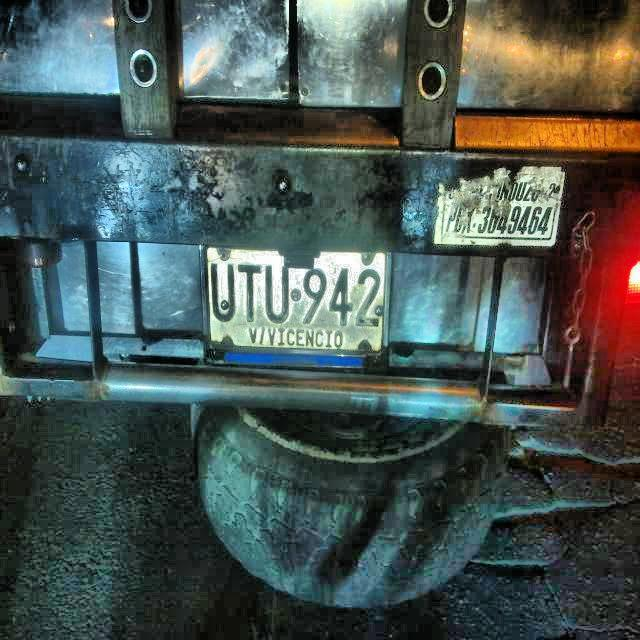plate: (206, 248, 385, 350)
